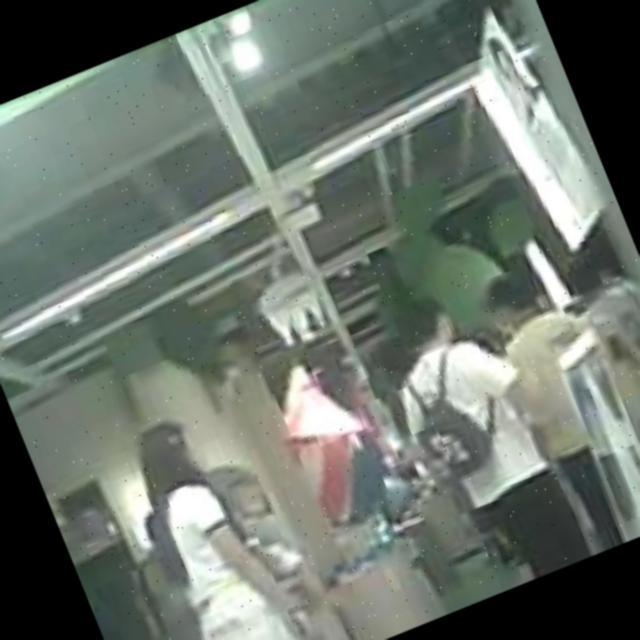person: (364, 272, 597, 602), (110, 390, 335, 640), (468, 247, 640, 560), (562, 234, 640, 524)
